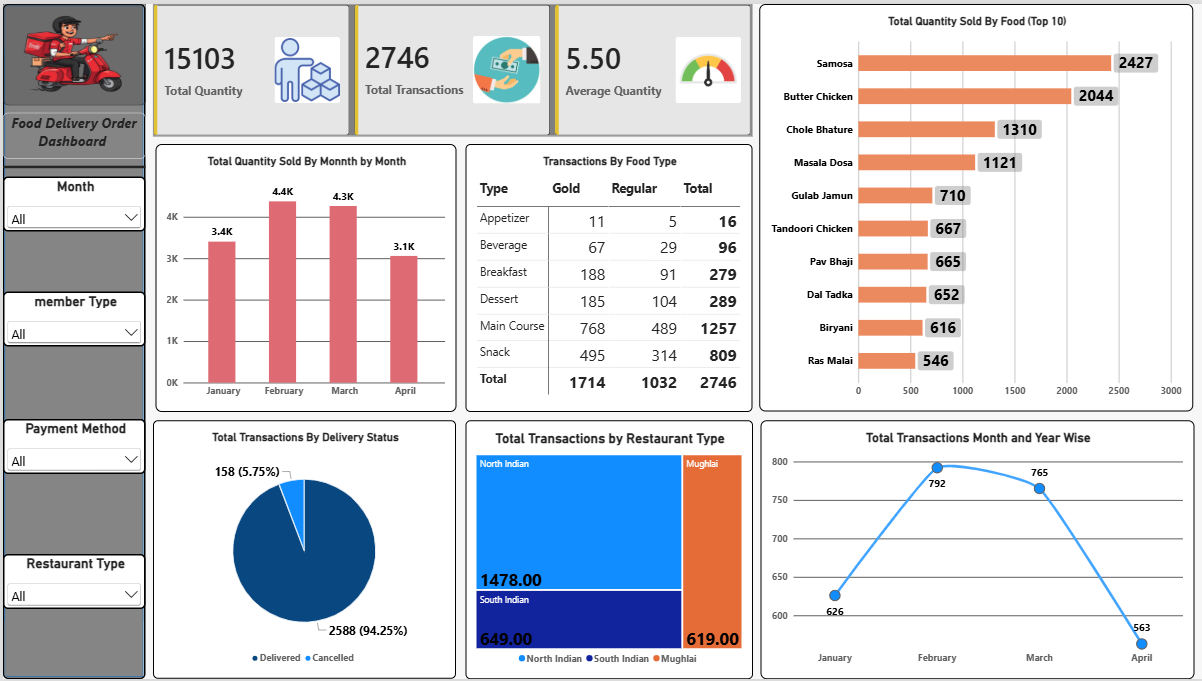

This screenshot's page, from the dashboard's own definition file:
{"tool":"powerbi","page":{"name":"Food Delivery Dashboard","canvas":[1920,1080],"ordinal":0},"visuals":[{"type":"shape","box":[0,0,228.2,1080.4],"z":0},{"type":"image","box":[0,0,228.8,162.7],"z":1000},{"type":"textbox","box":[0,174.8,228.2,73.6],"z":2000},{"type":"shape","box":[0,246.6,228.2,29.4],"z":3000},{"type":"cardVisual","fields":{"Data":["Month Wise Sales Data.Total Quantity","Month Wise Sales Data.Total Transactions","Month Wise Sales Data.Average Quantity"]},"box":[240.7,0,959.3,211.9],"z":4000},{"type":"clusteredColumnChart","fields":{"Category":["Month Wise Sales Data.orderDate.Variation.Date Hierarchy.Month"],"Y":["Month Wise Sales Data.Total Quantity"]},"box":[244.1,223.7,481.4,428.8],"z":5000},{"type":"pivotTable","title":"Transactions By Food Type","fields":{"Columns":["Customer Details.member_Type"],"Rows":["Food Item Details.Type"],"Values":["Month Wise Sales Data.Total Transactions"]},"box":[740.7,223.7,459.3,428.8],"z":6000},{"type":"pieChart","title":"Total Transactions By Delivery Status","fields":{"Category":["Month Wise Sales Data.deliver_status"],"Y":["Month Wise Sales Data.Total Transactions"]},"box":[240.7,666.1,484.7,413.6],"z":7000},{"type":"treemap","title":"Total Transactions by Restaurant Type","fields":{"Group":["Restaurant Details.Resturant_type"],"Values":["Month Wise Sales Data.Total Transactions"]},"box":[740,666,460,414],"z":8000},{"type":"clusteredBarChart","title":"Total Quantity Sold By Food (Top 10)","fields":{"Category":["Food Item Details.Food"],"Y":["Month Wise Sales Data.Total Quantity"]},"box":[1210,0,694,652],"z":9000},{"type":"lineChart","title":"Total Transactions Month and Year Wise","fields":{"Category":["Month Wise Sales Data.orderDate.Variation.Date Hierarchy.Year","Month Wise Sales Data.orderDate.Variation.Date Hierarchy.Month"],"Y":["CountNonNull(Month Wise Sales Data.order_id)"]},"box":[1212,666,694,414],"z":10000},{"type":"slicer","title":"Month","fields":{"Values":["Month Wise Sales Data.orderDate.Variation.Date Hierarchy.Month"]},"box":[0,276,228,88],"z":11000},{"type":"slicer","title":"member Type","fields":{"Values":["Customer Details.member_Type"]},"box":[0,460,228,88],"z":11001},{"type":"slicer","title":"Restaurant Type","fields":{"Values":["Restaurant Details.Resturant_type"]},"box":[0,868,228,88],"z":11002},{"type":"slicer","title":"Payment Method","fields":{"Values":["Month Wise Sales Data.payment_method"]},"box":[0,664,228,88],"z":11003},{"type":"image","box":[12,968,204,112],"z":11004}]}

Visuals, with their boxes in screenshot pixels (x1, y1, x2, y2), scaled from the page's 1920x1080 canvas onto the 1202x681 screenshot:
shape: bbox(0, 0, 143, 680)
image: bbox(0, 0, 143, 103)
textbox: bbox(0, 110, 143, 157)
shape: bbox(0, 155, 143, 174)
cardVisual - Month Wise Sales Data.Total Quantity x Month Wise Sales Data.Total Transactions: bbox(151, 0, 751, 134)
clusteredColumnChart - Month Wise Sales Data.orderDate.Variation.Date Hierarchy.Month x Month Wise Sales Data.Total Quantity: bbox(153, 141, 454, 411)
"Transactions By Food Type" pivotTable: bbox(464, 141, 751, 411)
"Total Transactions By Delivery Status" pieChart: bbox(151, 420, 454, 680)
"Total Transactions by Restaurant Type" treemap: bbox(463, 420, 751, 680)
"Total Quantity Sold By Food (Top 10)" clusteredBarChart: bbox(758, 0, 1192, 411)
"Total Transactions Month and Year Wise" lineChart: bbox(759, 420, 1193, 680)
"Month" slicer: bbox(0, 174, 143, 230)
"member Type" slicer: bbox(0, 290, 143, 346)
"Restaurant Type" slicer: bbox(0, 547, 143, 603)
"Payment Method" slicer: bbox(0, 419, 143, 474)
image: bbox(8, 610, 135, 680)
